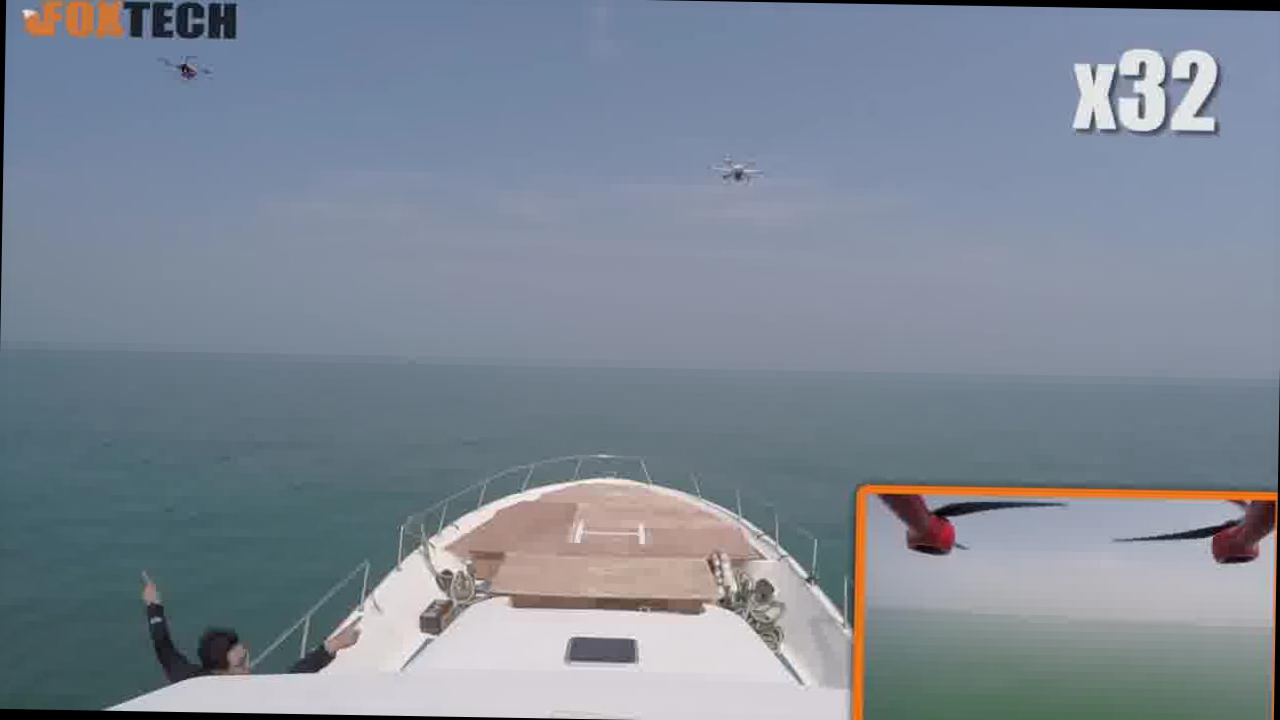drone: (702, 141, 770, 196)
